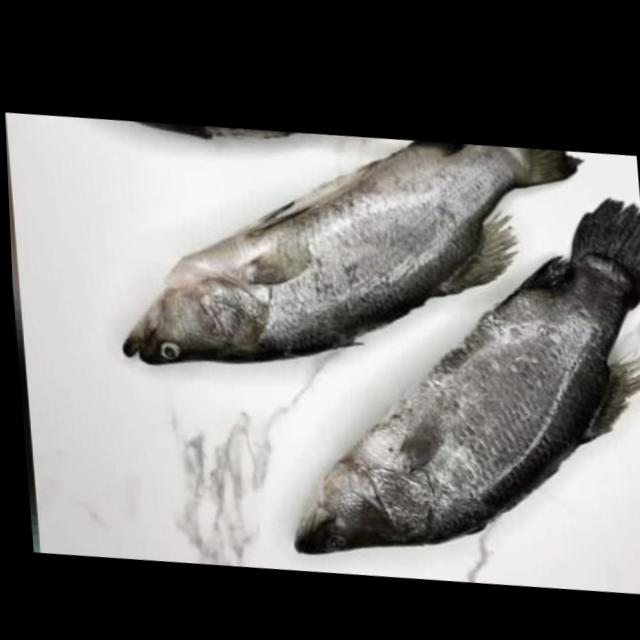Seabass: (261, 159, 640, 595), (100, 101, 599, 414)
